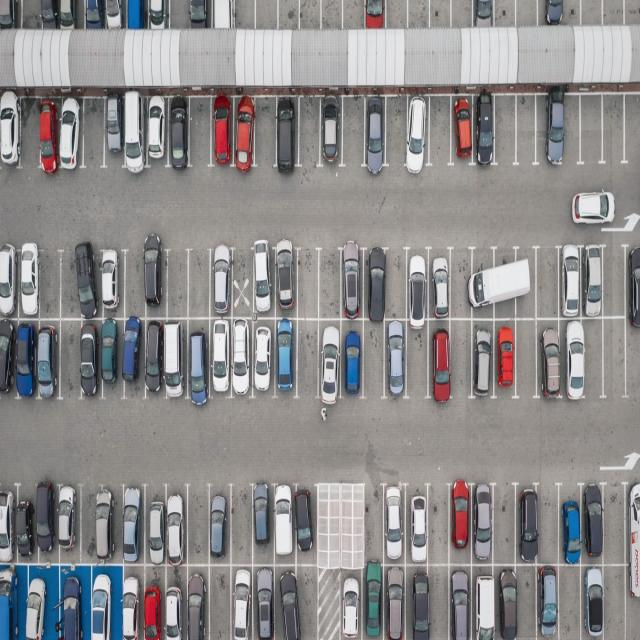space-empty: (205, 563, 235, 639), (330, 489, 356, 572), (292, 320, 319, 398), (290, 564, 318, 638), (404, 321, 431, 397), (602, 318, 628, 396), (517, 318, 543, 395), (231, 487, 256, 567), (423, 564, 450, 638), (448, 319, 473, 398), (426, 485, 450, 567), (557, 562, 582, 638), (361, 319, 386, 395), (361, 487, 384, 569), (492, 487, 516, 565), (342, 95, 368, 167), (254, 94, 280, 166), (59, 320, 83, 398), (185, 488, 209, 566), (534, 249, 560, 320), (426, 96, 452, 167), (188, 97, 214, 168), (228, 247, 253, 320), (293, 250, 319, 320), (380, 250, 406, 320), (582, 318, 605, 397), (492, 93, 517, 165), (604, 563, 628, 638), (448, 250, 474, 319), (538, 488, 561, 565), (297, 98, 323, 166), (316, 250, 341, 320), (603, 95, 628, 165), (83, 98, 108, 168), (602, 486, 624, 565), (604, 245, 628, 317), (515, 566, 539, 638), (166, 250, 191, 319), (384, 97, 408, 168), (186, 250, 211, 318), (580, 96, 604, 165), (20, 99, 43, 171), (515, 94, 538, 165), (80, 488, 101, 564), (38, 251, 61, 320), (124, 251, 148, 317), (61, 251, 84, 318), (562, 94, 582, 167), (319, 492, 336, 568), (625, 319, 640, 396), (624, 95, 640, 165), (383, 0, 408, 29), (254, 0, 278, 30), (276, 0, 300, 30), (342, 0, 366, 30), (320, 0, 344, 30), (298, 0, 322, 30), (407, 0, 431, 29), (168, 0, 191, 30), (450, 0, 474, 28), (21, 0, 43, 30), (234, 0, 256, 30), (430, 0, 453, 28), (515, 0, 538, 27), (493, 0, 515, 27), (601, 0, 624, 25), (581, 0, 603, 25), (624, 0, 640, 24)
space-occupied: (15, 563, 55, 640), (82, 565, 120, 640), (560, 317, 592, 399), (55, 566, 90, 640), (158, 566, 188, 640), (251, 318, 278, 398), (186, 319, 213, 399), (120, 484, 147, 564), (164, 320, 191, 399), (119, 563, 147, 639), (539, 93, 568, 166), (537, 320, 564, 398), (32, 319, 59, 397), (182, 564, 210, 639), (230, 565, 258, 640), (471, 563, 499, 638), (446, 483, 472, 563), (272, 317, 298, 396), (122, 318, 148, 397), (160, 490, 187, 566), (55, 484, 82, 560), (339, 318, 365, 396), (380, 483, 405, 564), (139, 564, 166, 639), (404, 97, 432, 169), (491, 246, 519, 318), (30, 482, 56, 559), (405, 484, 430, 564), (208, 318, 233, 398), (252, 564, 278, 640), (227, 319, 252, 398), (317, 315, 341, 397), (492, 317, 517, 395), (428, 321, 453, 399), (208, 486, 233, 564), (448, 564, 474, 639), (73, 248, 100, 320), (93, 487, 118, 564), (100, 316, 124, 396), (100, 250, 128, 318), (383, 320, 408, 396), (291, 487, 316, 563), (253, 244, 279, 317), (12, 319, 36, 398), (208, 248, 235, 318), (536, 563, 561, 638), (472, 317, 496, 395), (472, 486, 496, 564), (143, 96, 169, 168), (142, 486, 166, 564), (472, 246, 498, 318), (272, 246, 298, 317), (558, 247, 584, 318), (340, 569, 366, 640), (123, 96, 148, 169), (578, 562, 602, 638), (449, 96, 475, 166), (59, 98, 84, 170), (380, 563, 404, 638), (274, 563, 298, 638), (560, 489, 584, 563), (405, 564, 429, 638), (209, 97, 234, 168), (472, 97, 497, 168), (578, 246, 603, 317), (167, 98, 192, 169), (515, 488, 538, 565), (274, 97, 299, 167), (232, 98, 257, 168), (318, 97, 343, 167), (512, 248, 537, 318), (273, 486, 296, 562), (254, 485, 276, 564), (15, 248, 39, 320), (426, 252, 452, 318), (82, 319, 104, 397), (144, 319, 166, 397), (406, 250, 431, 318), (364, 98, 388, 168), (494, 567, 517, 640), (340, 251, 365, 317), (581, 488, 602, 566), (104, 98, 127, 168), (0, 564, 21, 640), (144, 250, 168, 316), (360, 568, 382, 640), (16, 485, 37, 560), (0, 95, 21, 169), (362, 252, 385, 319), (39, 98, 60, 170), (0, 244, 19, 317), (0, 490, 17, 566), (625, 482, 640, 563), (0, 319, 15, 396), (625, 562, 640, 638), (540, 0, 580, 25), (627, 245, 640, 319), (125, 0, 149, 31), (146, 0, 171, 29), (362, 0, 386, 30), (57, 0, 81, 30), (187, 0, 211, 29), (210, 0, 234, 29), (84, 0, 106, 31), (103, 0, 125, 30), (0, 0, 21, 31), (473, 0, 497, 27), (40, 0, 59, 30)
